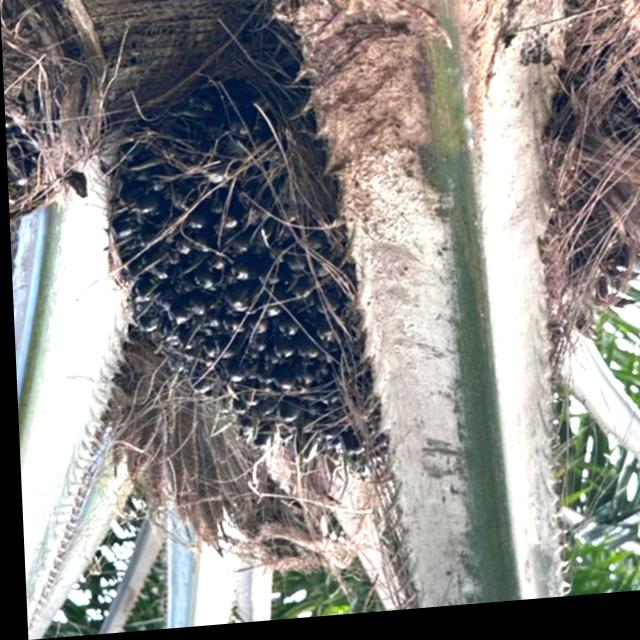unripe: (88, 65, 387, 522)
